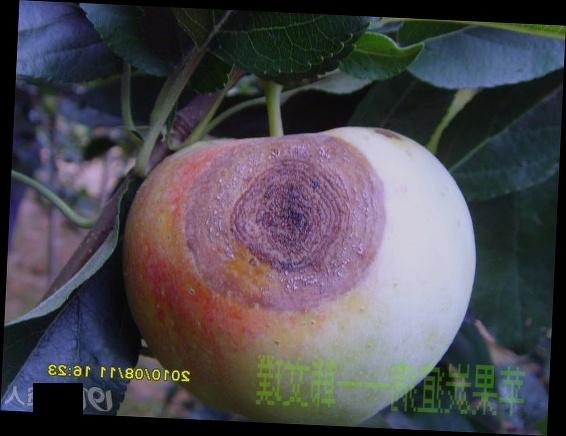rotten apple: (115, 104, 480, 424)
